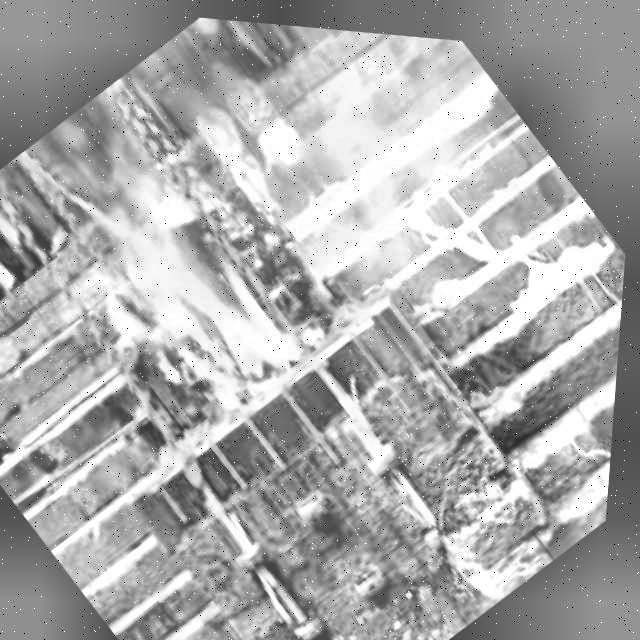Fire: (30, 103, 346, 435)
